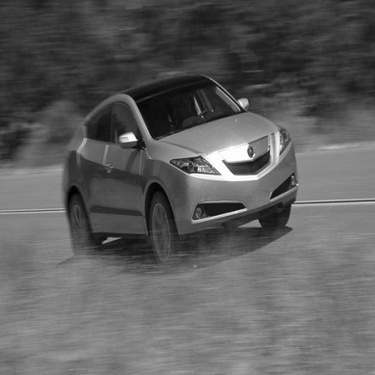car: (49, 60, 301, 267)
